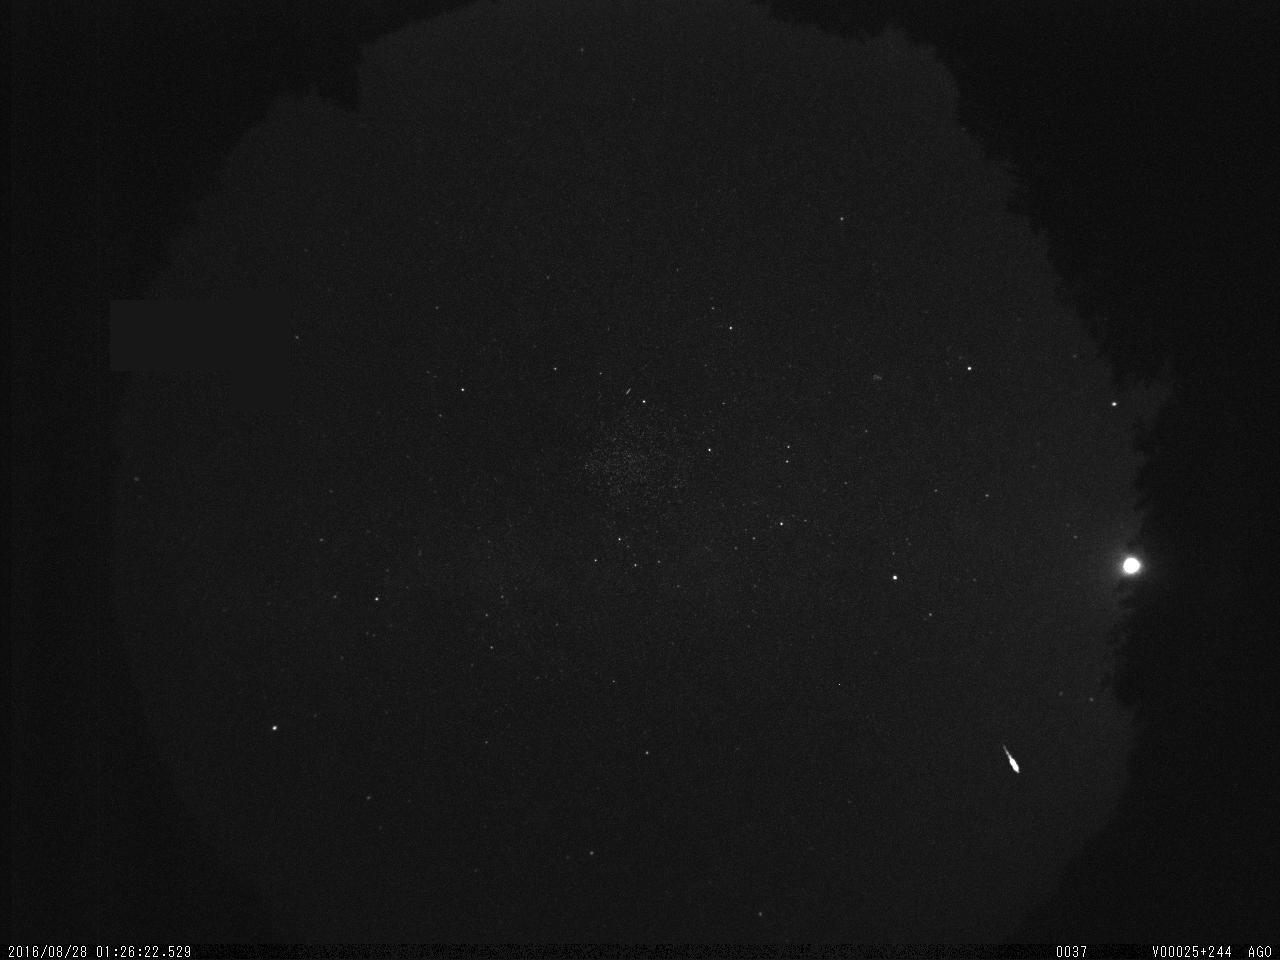meteor: (987, 733, 1034, 776)
